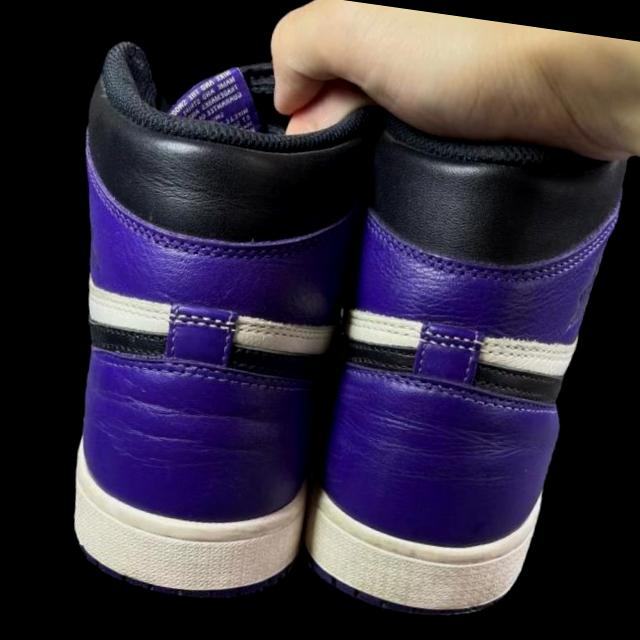nike_original_jordan: (18, 24, 392, 612), (283, 76, 638, 636)
